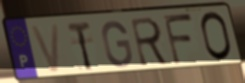F: (161, 13, 196, 67)
G: (100, 19, 135, 69)
O: (199, 10, 234, 63)
R: (129, 16, 172, 69)
T: (65, 20, 94, 73)
V: (28, 22, 62, 75)
